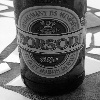beer: (23, 1, 84, 94)
